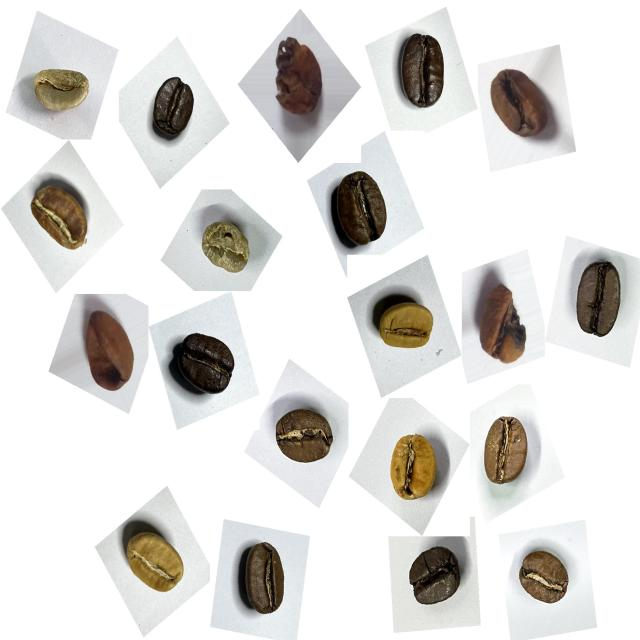bad: (480, 58, 562, 156), (72, 296, 144, 402), (262, 26, 336, 128), (466, 270, 536, 376)
dark: (388, 23, 461, 120), (166, 321, 245, 409), (399, 538, 471, 622), (140, 68, 204, 150)
green: (190, 212, 260, 288), (26, 60, 99, 127)
light: (113, 512, 194, 609), (366, 284, 444, 368), (21, 174, 97, 260), (381, 422, 452, 512)
medium: (320, 162, 399, 258), (228, 533, 300, 626), (470, 408, 539, 498), (267, 398, 341, 480), (509, 542, 578, 620)
